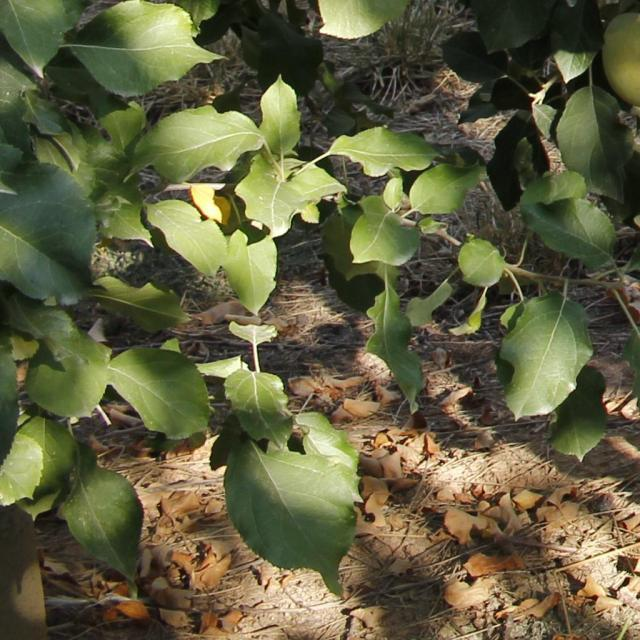apple: (602, 13, 639, 107)
